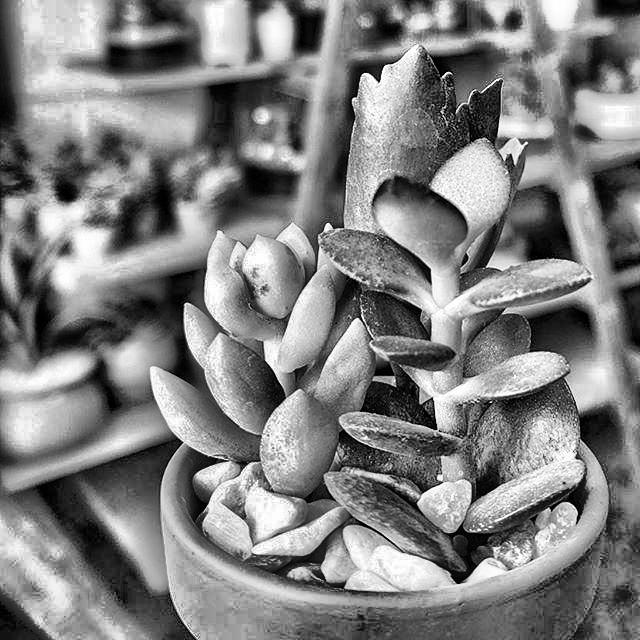plants: (182, 96, 591, 639)
